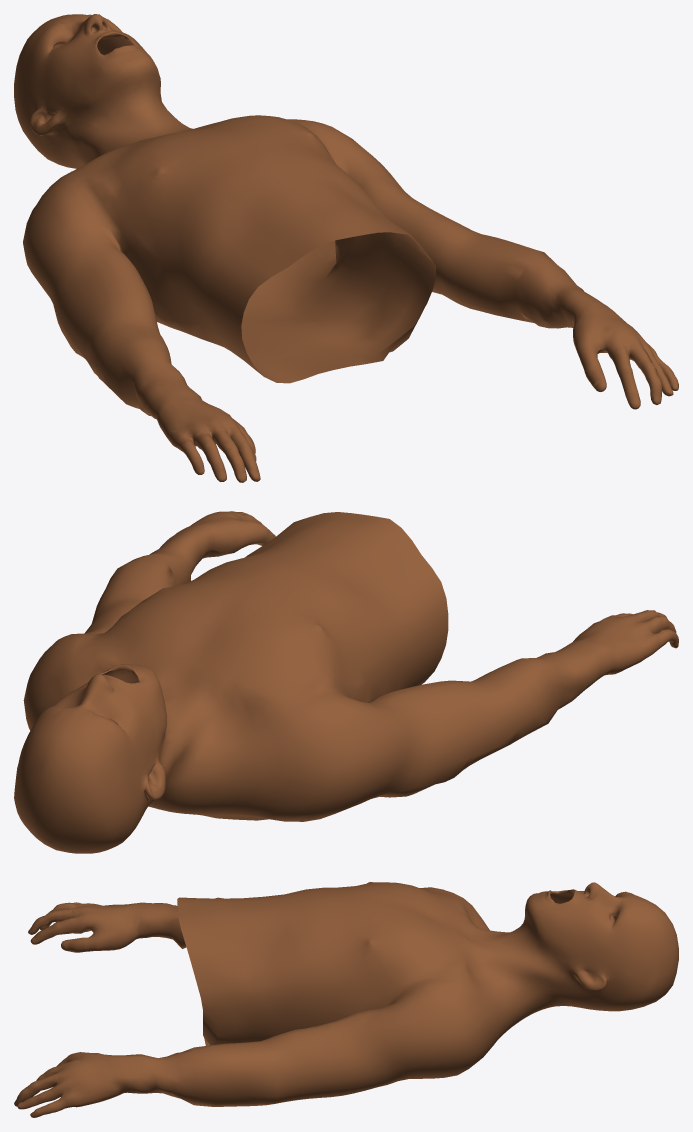
File: body_boca_abierta2.fbx
3 views of the same model, one above another, from view 1: azimuth 30°, elevation 25°; view 2: azimuth 150°, elevation 25°; view 3: azimuth 270°, elevation 25° (orthographic). The views are drawn at different scales.
Parts seen in each view (by area): view 1: Plane.004; view 2: Plane.004; view 3: Plane.004.
Boxes of the visible parts, box(x1,y1,x2,y2) form: Plane.004: box(14, 14, 678, 482); Plane.004: box(14, 511, 678, 853); Plane.004: box(14, 882, 678, 1117).
Size of the model in its own units: 6957 by 2886 by 10525.
